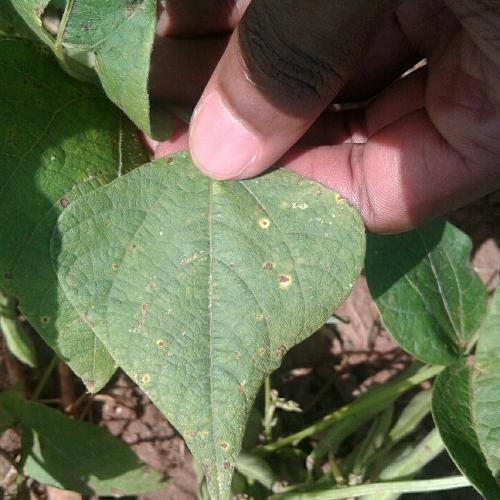hawar: (180, 413, 236, 486), (254, 254, 297, 295), (246, 338, 291, 364), (150, 331, 171, 357)
mozaik: (82, 195, 357, 492)
